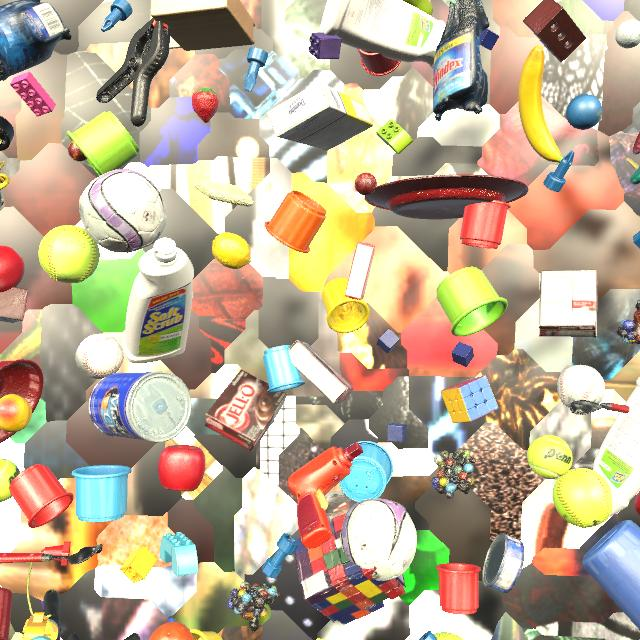ycb_002_master_chef_can: (88, 371, 192, 442), (0, 193, 2, 209)
ycb_004_sugar_box: (267, 82, 373, 150)
ycb_007_tuna_fish_can: (482, 533, 525, 593)
ycb_008_pudding_box: (204, 369, 288, 452), (288, 340, 354, 404), (539, 270, 597, 337)
ycb_009_gelatin_box: (345, 241, 375, 300)
ycb_011_banana: (518, 46, 573, 165)
ycb_012_strawberry: (192, 87, 219, 123)
ycb_013_apple: (158, 445, 205, 492), (0, 246, 25, 292), (634, 491, 640, 515)
ycb_014_lemon: (212, 232, 251, 269)
ycb_015_peach: (0, 394, 32, 432)
ycb_016_pear: (402, 0, 433, 16)
ycb_017_orange: (149, 622, 194, 640)
